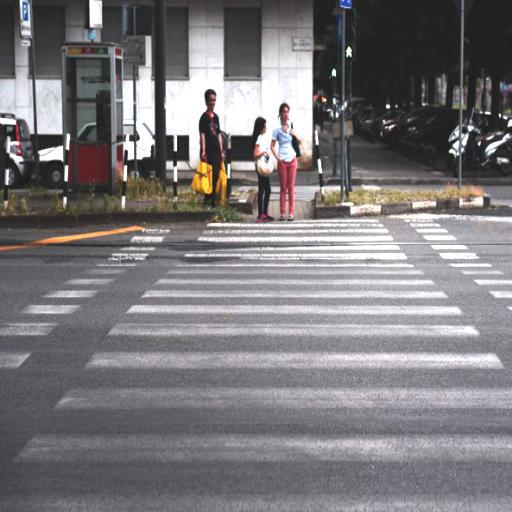crosswalk: (83, 319, 507, 376), (184, 232, 408, 264)
